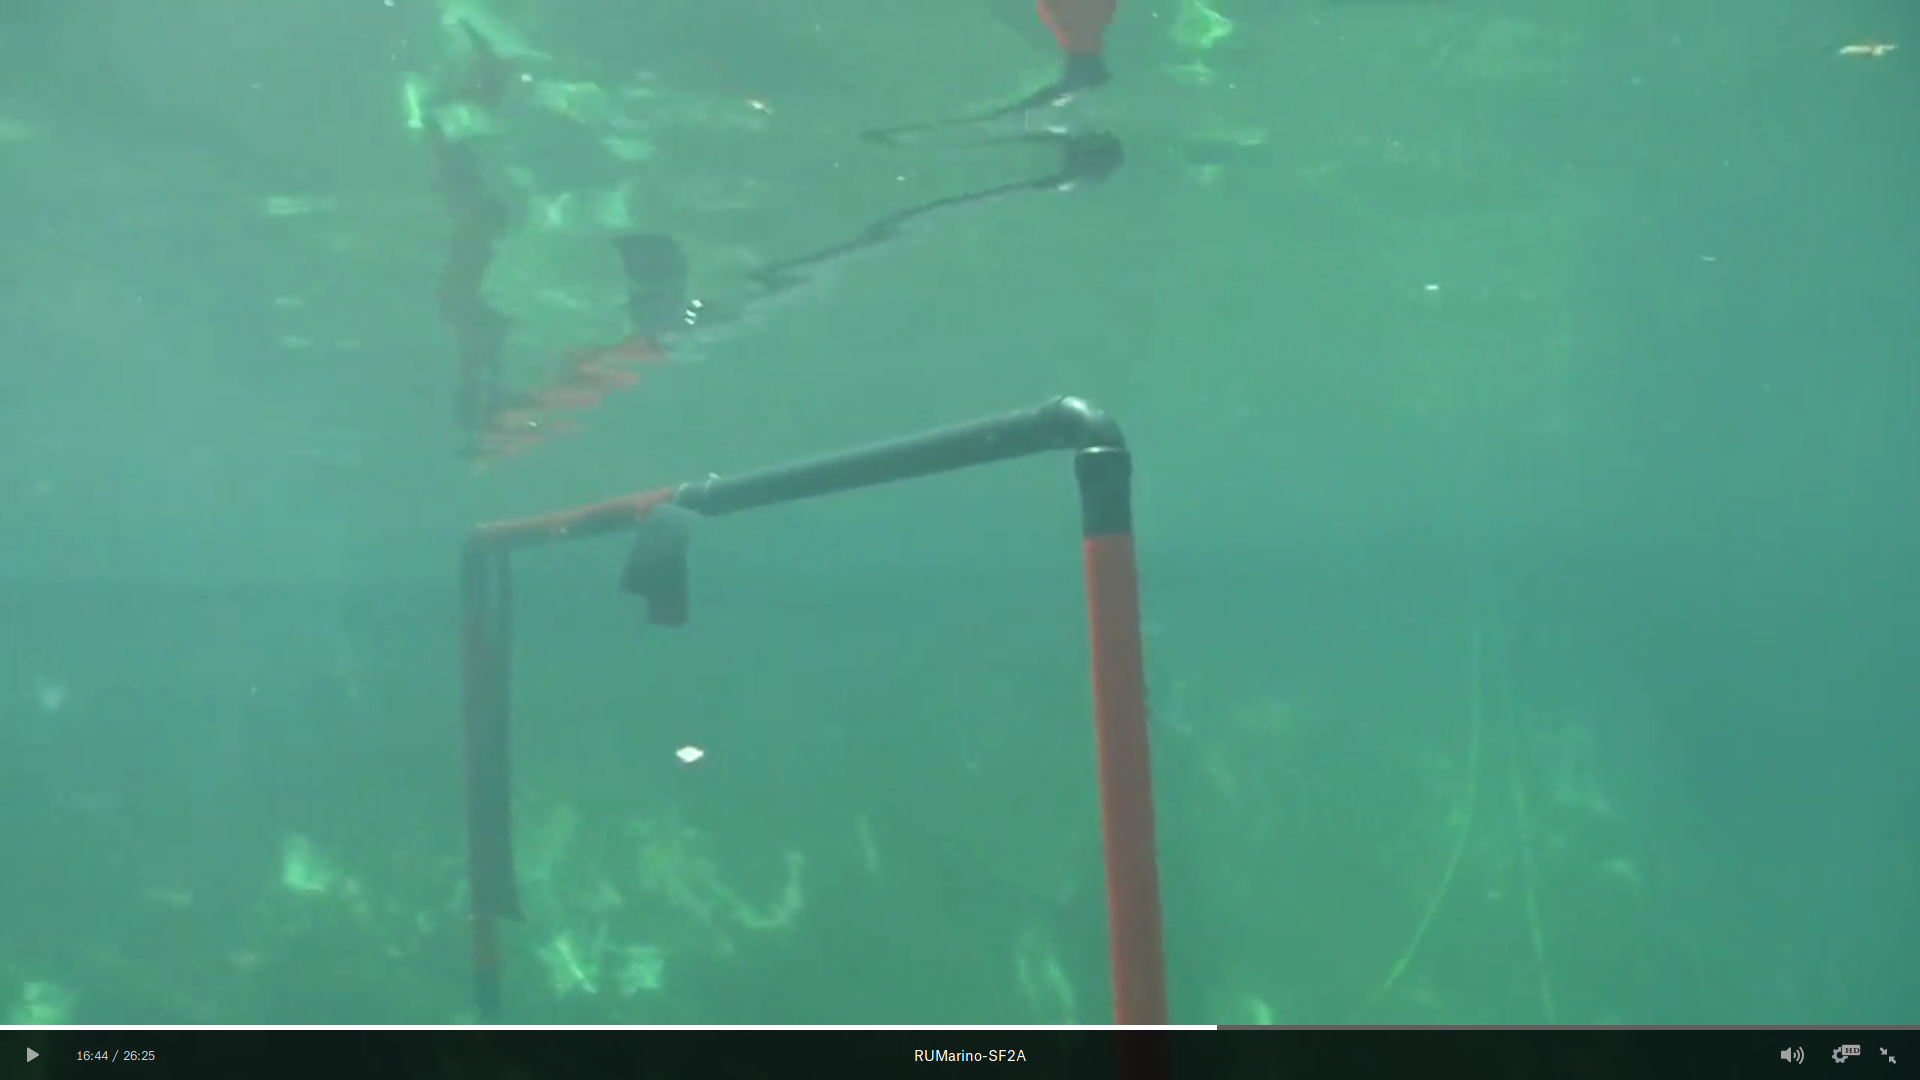gate: (440, 387, 1222, 1011)
